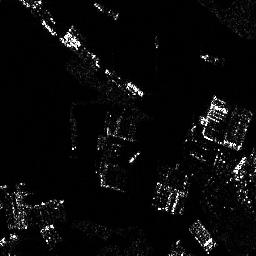ship: (94, 2, 120, 19)
